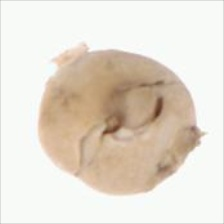L3: (101, 78, 165, 138)
L4: (37, 44, 202, 195)
